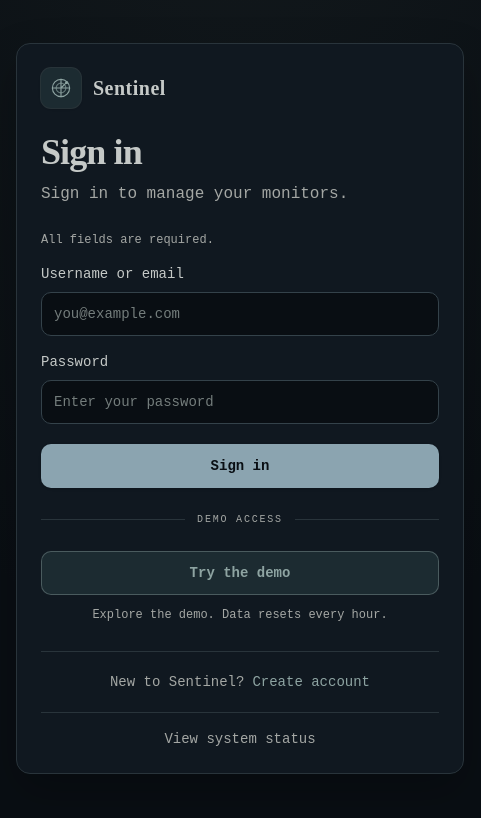
Scenario: LoginPage › 401 shows an inline error and stays on the form
This screenshot has width=481, height=818.
Type "bad" into the field labelled "Username or email" at (240, 314), box [41, 292, 439, 336]
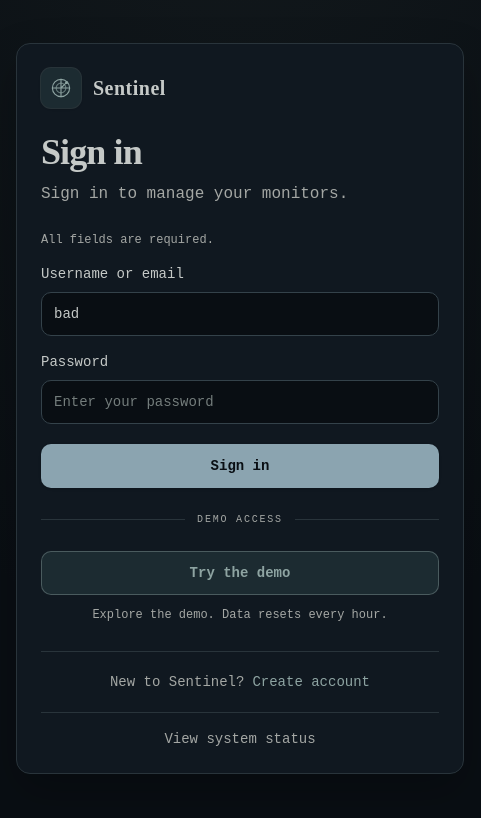
Type "creds" into the password field labelled "Password" at (240, 402), box [41, 380, 439, 424]
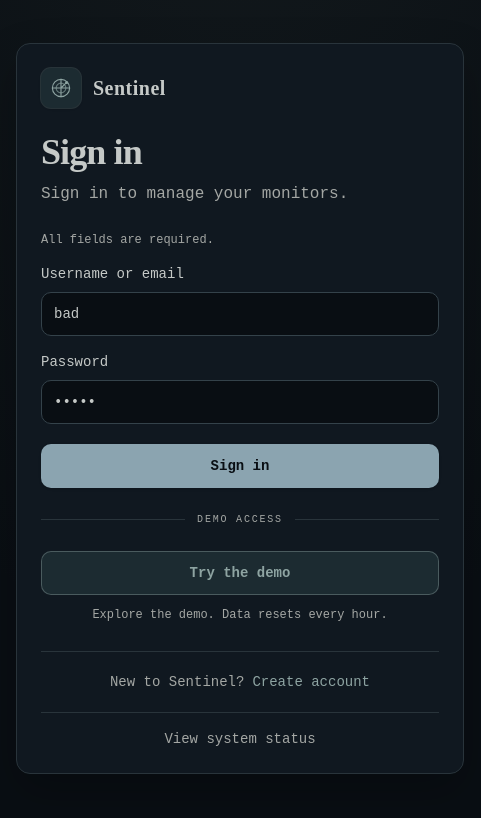
Click the button "Sign in" at (240, 466), box [41, 444, 439, 488]
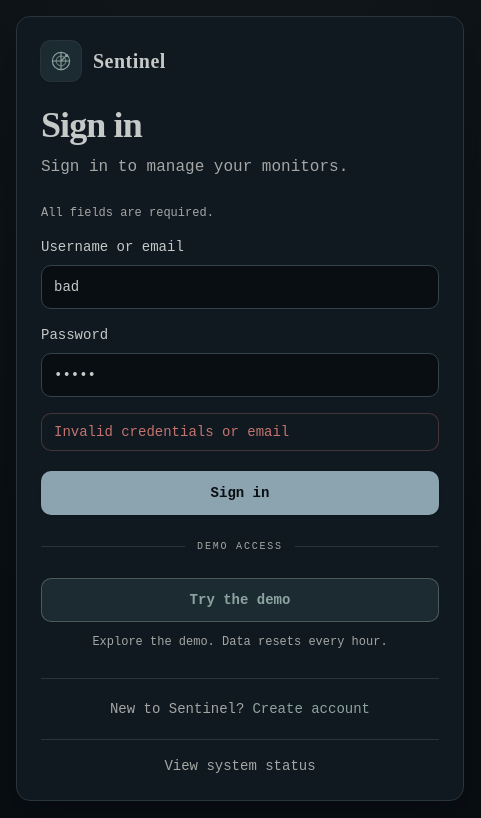
Expected: the text "Invalid credentials or email" is shown, [41, 412, 439, 450]
